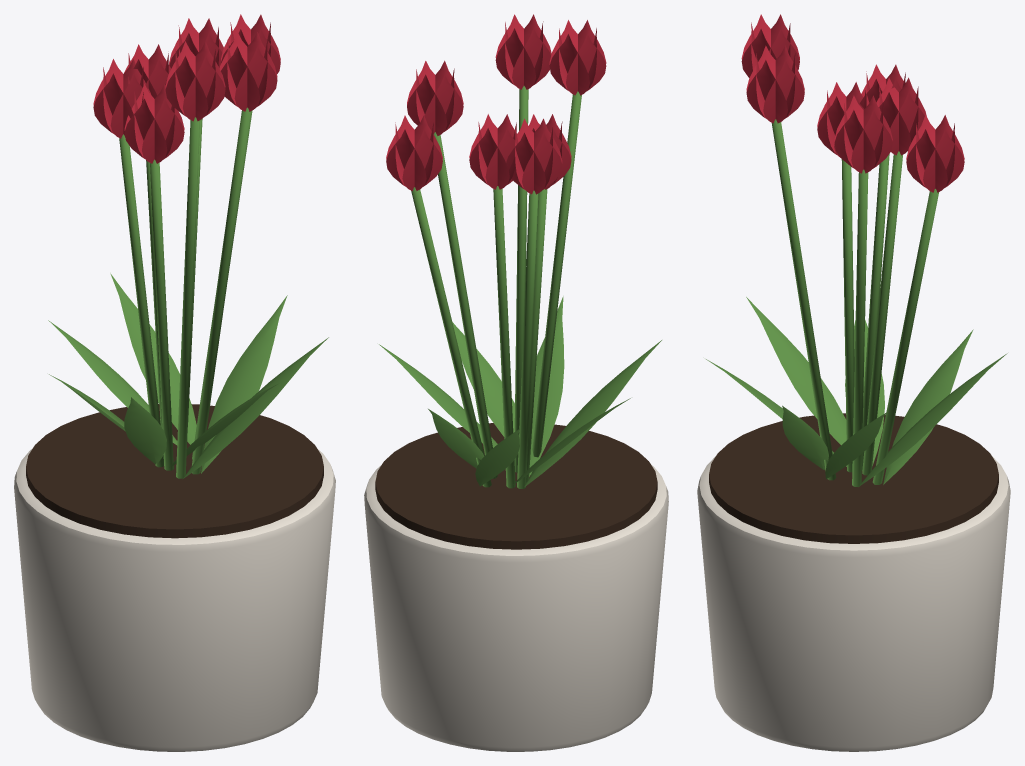
Rendered from plant_tulip.glb.
3 renders of one model, left to right at view 1: azimuth 30°, elevation 25°; view 2: azimuth 150°, elevation 25°; view 3: azimuth 270°, elevation 25°, orthographic. The views are drawn at different scales.
Parts seen in each view (by area): view 1: cyl, cyl.001, tube.005, tube.006, tube.004, leaf.048, tube.003, leaf.006, leaf.041, leaf.027, leaf.013, leaf.045 (+10 smaller); view 2: cyl, cyl.001, tube.005, tube, tube.003, tube.001, tube.002, tube.006, leaf.034, leaf.027, tube.004, leaf.041 (+16 smaller); view 3: cyl, cyl.001, tube.006, tube.002, tube, tube.001, leaf.027, tube.004, leaf.013, tube.003, leaf.006, leaf.041 (+12 smaller).
Part boxes in pixels (bbox=[...]): cyl: bbox=[14, 448, 335, 751]; cyl.001: bbox=[26, 404, 323, 538]; tube.005: bbox=[176, 117, 200, 478]; tube.006: bbox=[192, 107, 251, 474]; tube.004: bbox=[150, 159, 173, 470]; leaf.048: bbox=[201, 295, 287, 473]; tube.003: bbox=[119, 134, 163, 467]; leaf.006: bbox=[110, 273, 196, 444]; leaf.041: bbox=[183, 337, 328, 478]; leaf.027: bbox=[124, 397, 166, 464]; leaf.013: bbox=[48, 320, 177, 445]; leaf.045: bbox=[234, 46, 277, 111]; cyl: bbox=[364, 465, 668, 751]; cyl.001: bbox=[375, 423, 657, 549]; tube.005: bbox=[530, 91, 581, 474]; tube: bbox=[433, 132, 497, 478]; tube.003: bbox=[517, 190, 538, 488]; tube.001: bbox=[411, 187, 491, 487]; tube.002: bbox=[493, 186, 515, 488]; tube.006: bbox=[514, 86, 528, 472]; leaf.034: bbox=[529, 296, 564, 476]; leaf.027: bbox=[524, 340, 661, 486]; tube.004: bbox=[526, 189, 547, 482]; leaf.041: bbox=[452, 322, 514, 436]; cyl: bbox=[697, 456, 1010, 751]; cyl.001: bbox=[709, 413, 998, 543]; tube.006: bbox=[771, 119, 836, 480]; tube.002: bbox=[862, 151, 902, 475]; tube: bbox=[852, 169, 868, 486]; tube.001: bbox=[872, 189, 938, 484]; leaf.027: bbox=[746, 297, 846, 445]; tube.004: bbox=[841, 159, 854, 472]; leaf.013: bbox=[883, 329, 973, 484]; tube.003: bbox=[861, 154, 889, 470]; leaf.006: bbox=[858, 353, 1007, 487]; leaf.041: bbox=[782, 405, 828, 469].
Size of the model in its own units: 19.9 by 46.59 by 19.9.
